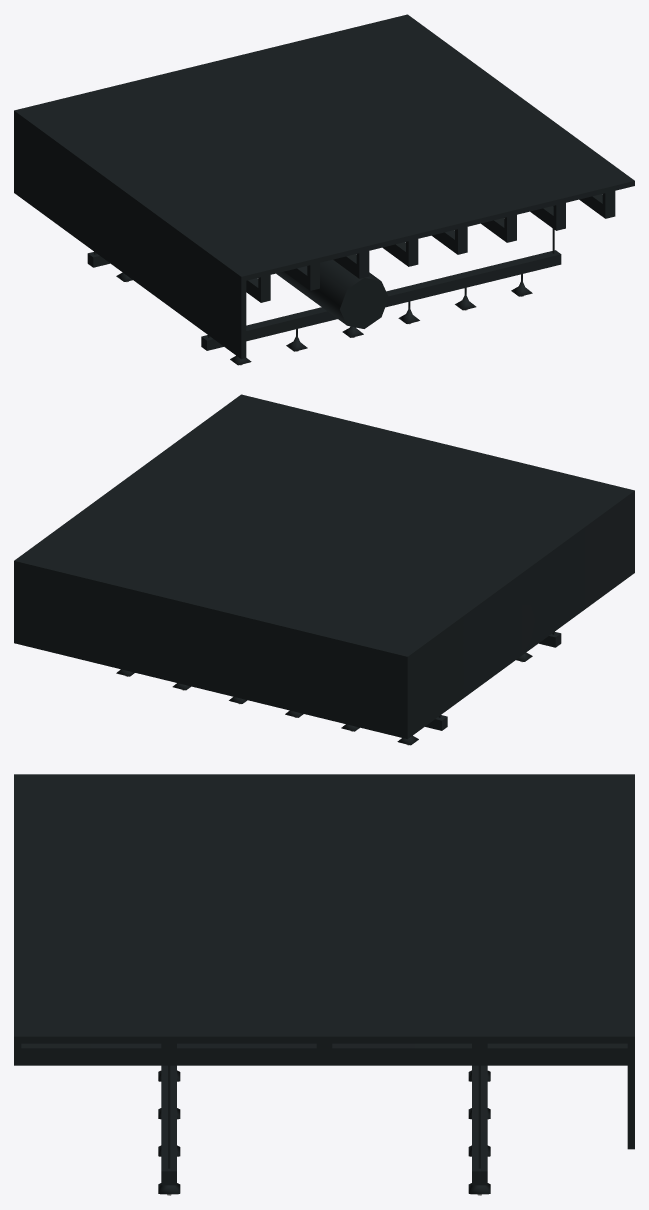
File: Roof_Corner_Lights_Alt.glb
The picture shows the model from 3 angles, top to bottom: view 1: azimuth 30°, elevation 25°; view 2: azimuth 150°, elevation 25°; view 3: azimuth 270°, elevation 25°; orthographic projection. The views are drawn at different scales.
Visible parts, largest first — view 1: Roof_Corner_Lights_Alt; view 2: Roof_Corner_Lights_Alt; view 3: Roof_Corner_Lights_Alt.
Boxes of the visible parts, x1,y1,x2,y2 form: Roof_Corner_Lights_Alt: [14, 14, 634, 365]; Roof_Corner_Lights_Alt: [14, 394, 634, 745]; Roof_Corner_Lights_Alt: [14, 774, 634, 1195].
Size of the model in its own units: 8 by 2.79 by 8.
1 material, 1 textured.
